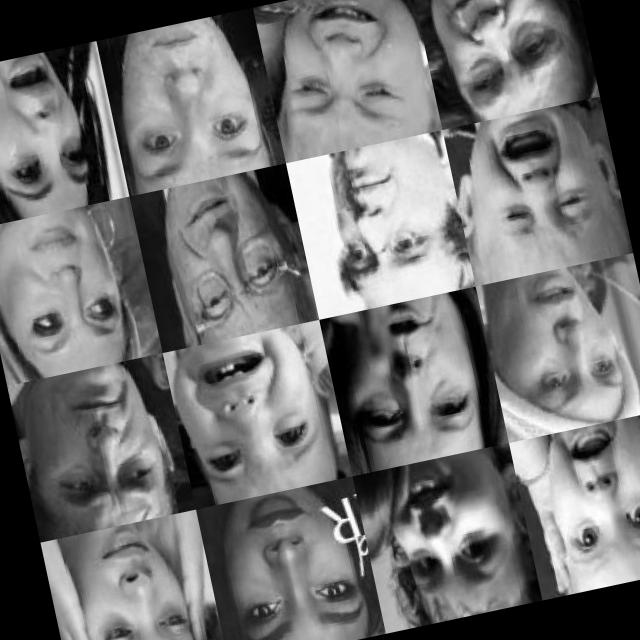angry: (330, 297, 460, 445), (31, 380, 162, 520)
fear: (59, 529, 206, 640), (529, 425, 640, 564)
happy: (375, 462, 506, 620), (226, 495, 354, 640)
neutral: (111, 28, 256, 176), (302, 146, 441, 298), (0, 213, 126, 361), (161, 179, 290, 323), (492, 272, 624, 410), (413, 0, 558, 105)
sad: (261, 0, 401, 158), (469, 106, 610, 256), (170, 344, 308, 488), (0, 61, 92, 202)
